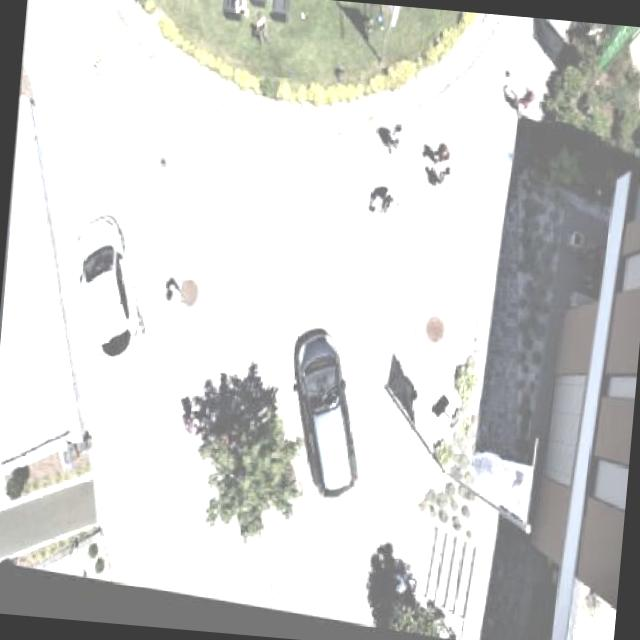Person: (505, 71, 546, 125), (156, 276, 188, 330), (371, 178, 406, 222), (250, 13, 278, 53), (425, 159, 456, 190), (379, 118, 402, 158), (426, 139, 453, 169), (224, 0, 246, 25), (542, 18, 574, 28)
